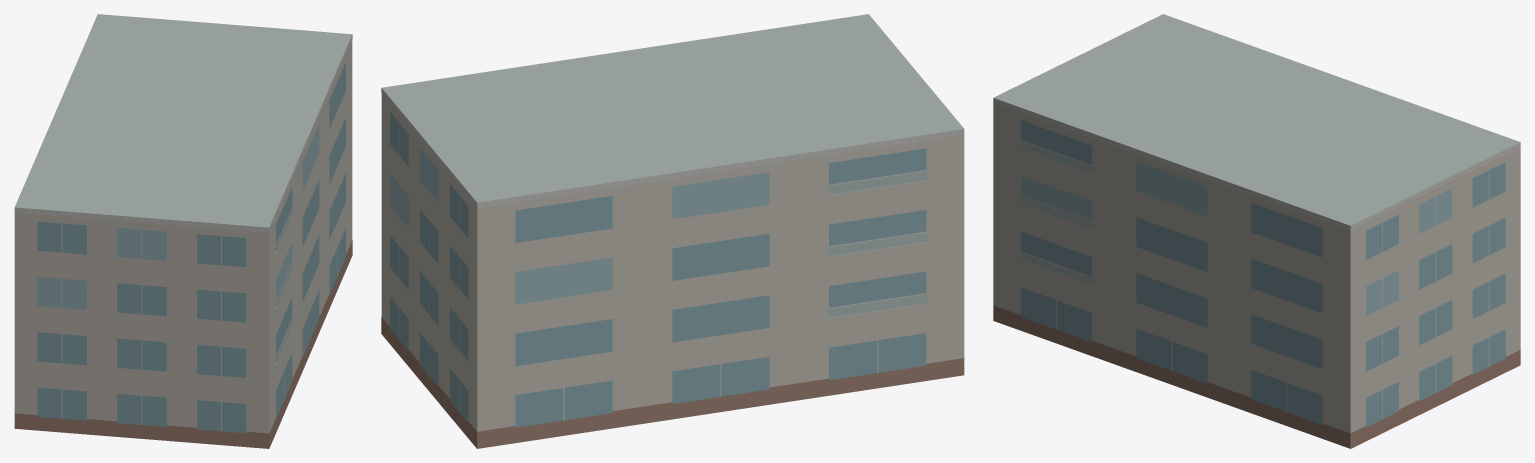
File: survey-upis-32463606.glb
3 views of the same model, side by side, from view 1: azimuth 30°, elevation 25°; view 2: azimuth 150°, elevation 25°; view 3: azimuth 270°, elevation 25° (orthographic). The views are drawn at different scales.
Parts seen in each view (by area): view 1: survey-upis-32463606.tmp; view 2: survey-upis-32463606.tmp; view 3: survey-upis-32463606.tmp.
Part boxes in pixels (x1,y1,x2,y2): survey-upis-32463606.tmp: (14, 14, 352, 448); survey-upis-32463606.tmp: (381, 14, 964, 448); survey-upis-32463606.tmp: (993, 14, 1520, 448).
Size of the model in its own units: 22.11 by 10.85 by 23.26.
